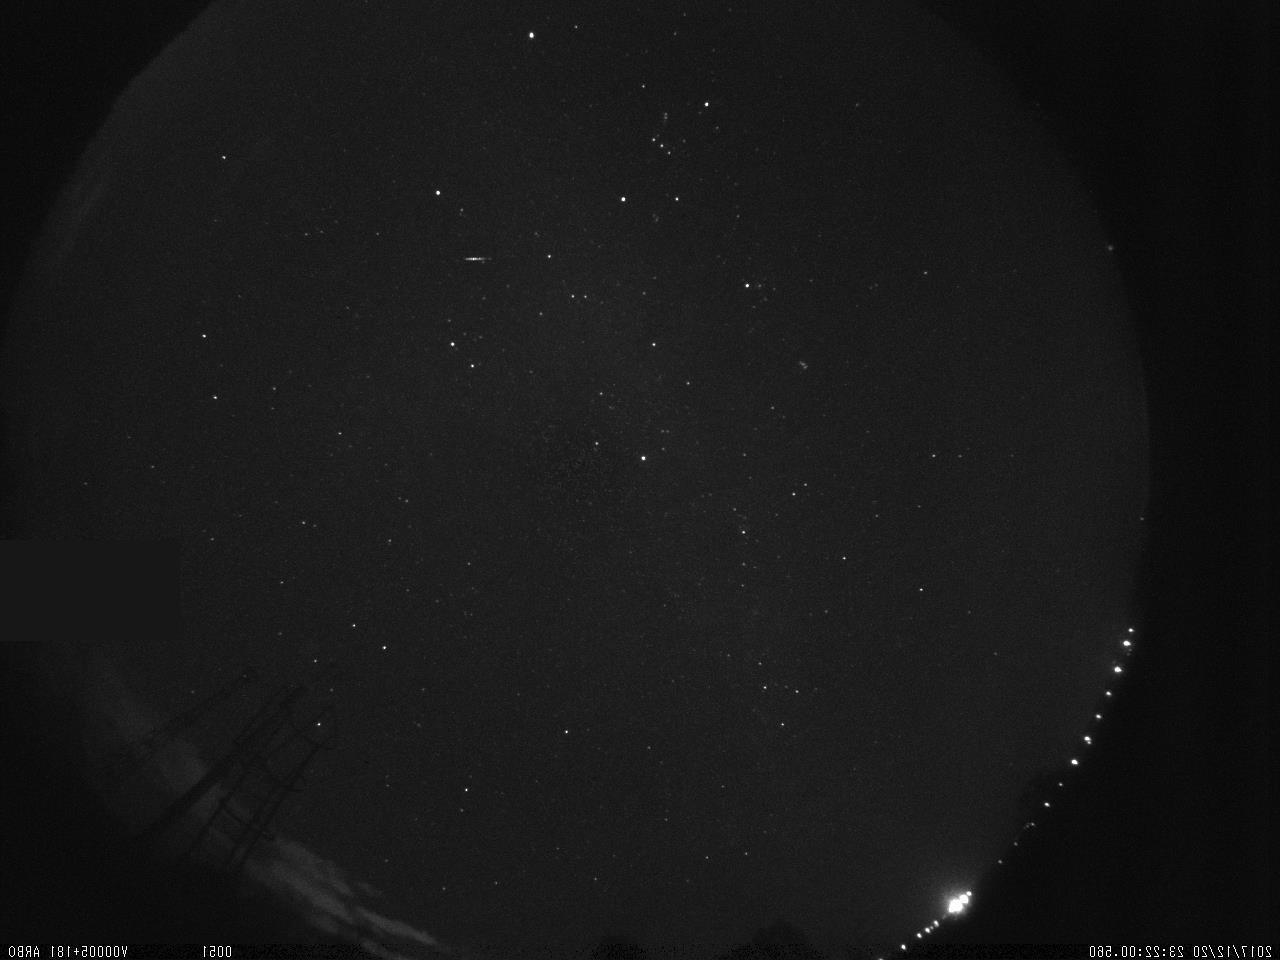meteor: (454, 246, 494, 268)
